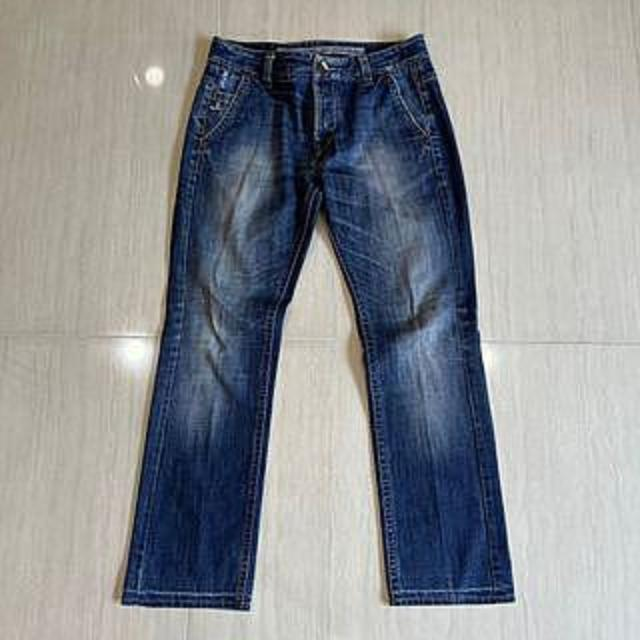TROUSER: (117, 26, 552, 620)
